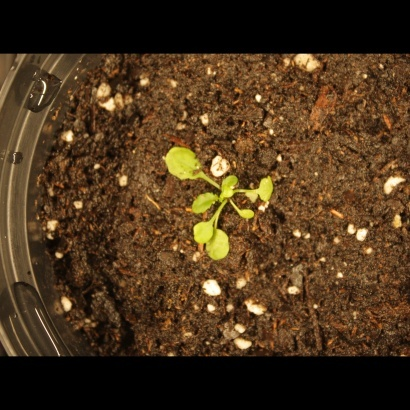leaf: (157, 145, 210, 182), (206, 228, 235, 265), (215, 169, 244, 201), (255, 175, 281, 205), (191, 190, 220, 215), (192, 221, 215, 246), (236, 205, 259, 228)
